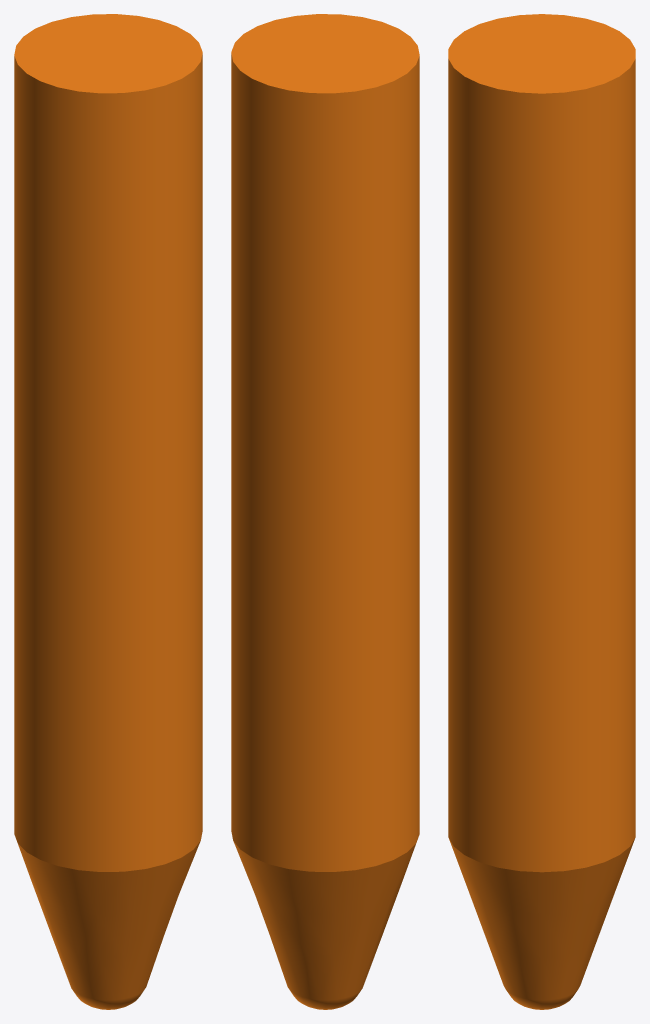
File: pen.glb
3 views of the same model, side by side, from view 1: azimuth 30°, elevation 25°; view 2: azimuth 150°, elevation 25°; view 3: azimuth 270°, elevation 25° (orthographic).
Parts seen in each view (by area): view 1: Body; view 2: Body; view 3: Body.
Part boxes in pixels (x1,y1,x2,y2): Body: (14, 14, 202, 1009); Body: (231, 14, 419, 1009); Body: (448, 14, 635, 1009).
Bounding box in the file's own units: 0.018 × 0.1 × 0.0179.
